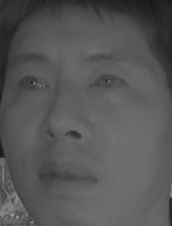eye: (88, 69, 127, 97), (15, 73, 51, 97)
mouth: (33, 155, 100, 199)
